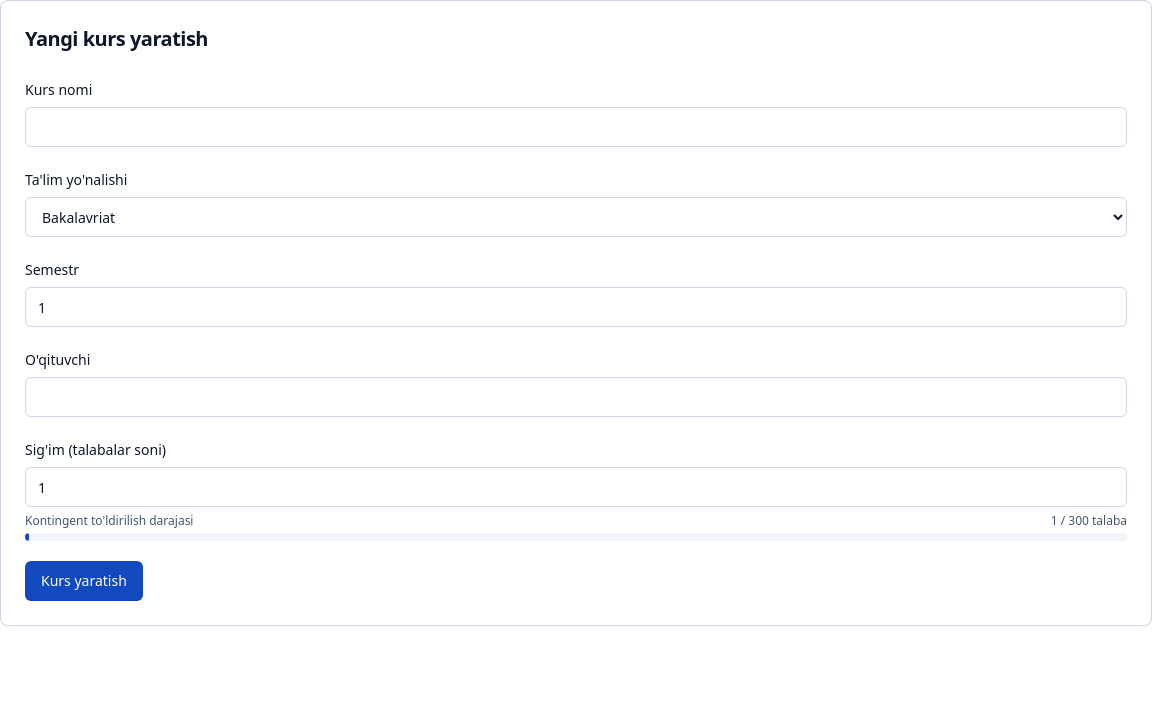
Test: CourseForm › MASTER sig`imi 30 dan oshganda yuborish bloklanadi (Req 11.5)
The width and height of the screenshot is (1152, 720).
Select "Magistratura" in the dropdown labelled "Ta'lim yo'nalishi": (576, 217) [25, 197, 1127, 237]
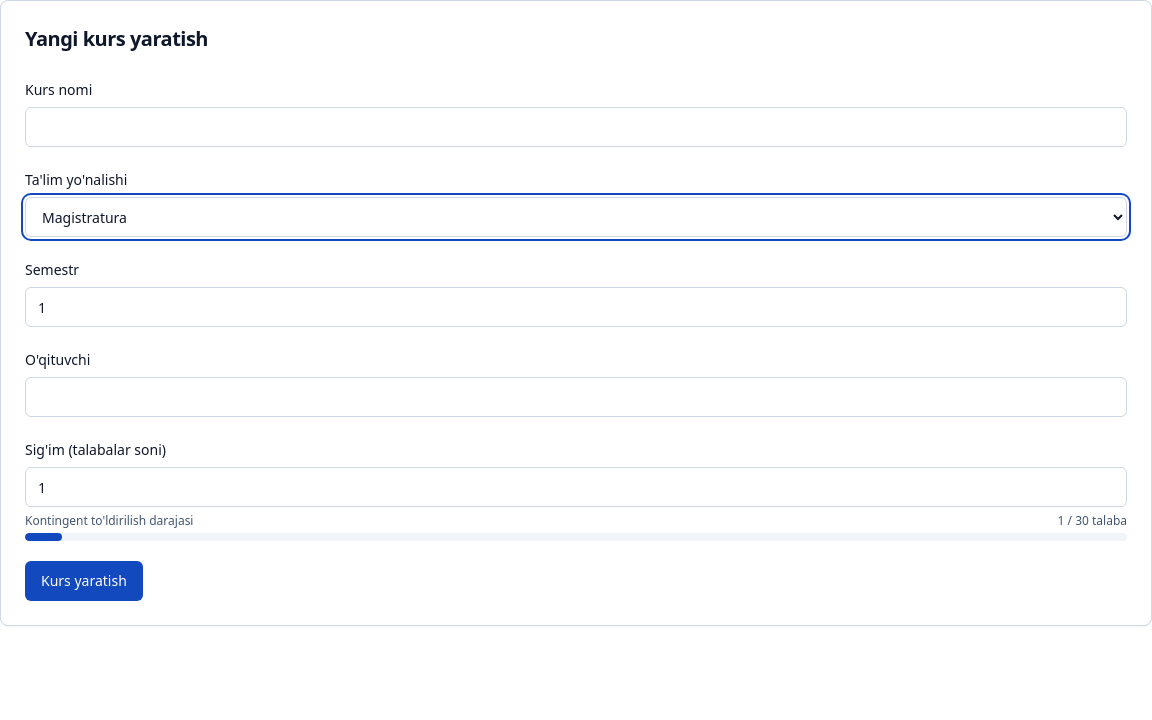
Replace the text in the number field labelled "Sig'im (talabalar soni)" with "31": (576, 487) [25, 467, 1127, 507]
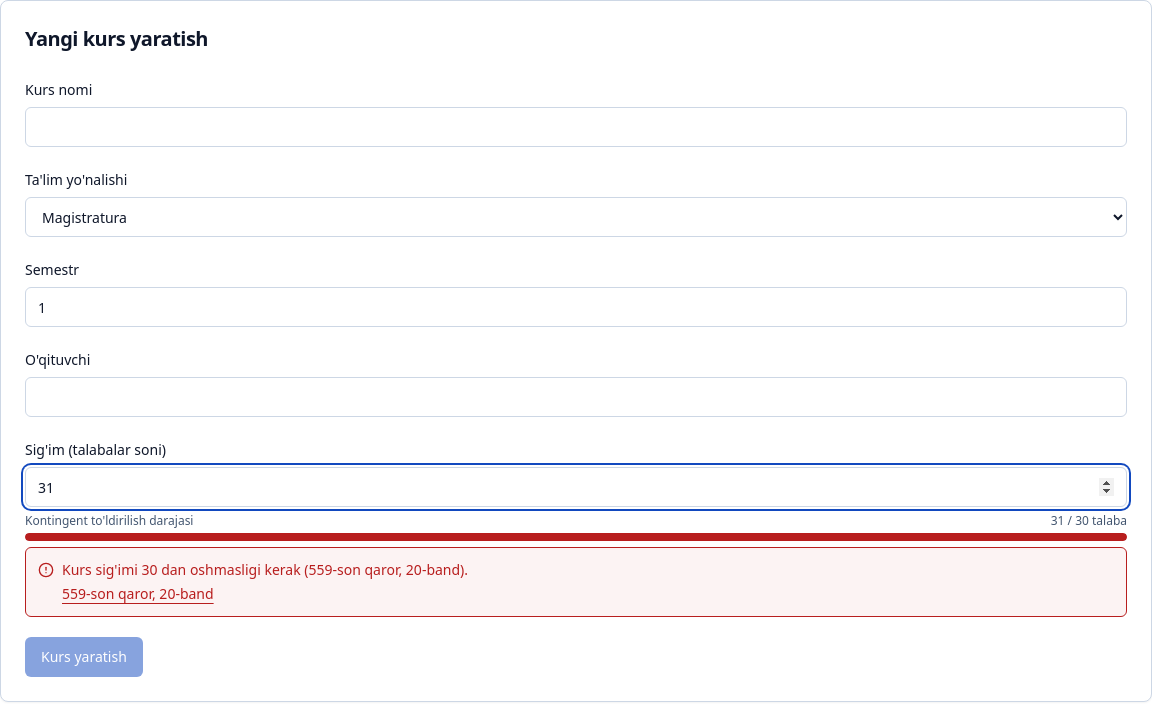
expect the button "Kurs yaratish" is disabled: met, box [25, 637, 143, 677]
